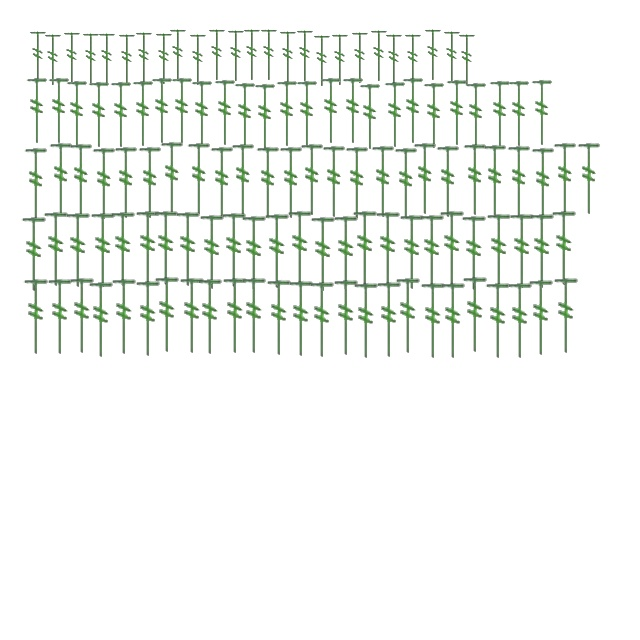fan: (20, 216, 48, 294), (64, 212, 92, 290), (134, 210, 162, 288), (152, 210, 180, 288), (198, 214, 226, 292), (220, 212, 248, 290), (286, 210, 314, 288), (398, 214, 426, 292), (418, 214, 446, 292), (438, 210, 466, 288), (550, 210, 578, 288), (22, 278, 50, 356), (46, 278, 74, 356), (68, 277, 96, 355), (110, 278, 138, 356), (134, 280, 162, 358), (178, 277, 206, 355), (196, 278, 224, 356), (240, 277, 268, 355), (308, 281, 336, 359), (332, 279, 360, 357), (352, 282, 380, 360), (394, 277, 422, 355), (484, 282, 512, 360), (506, 282, 534, 360), (552, 277, 580, 355), (42, 212, 70, 288), (174, 212, 202, 288), (240, 216, 268, 292), (332, 216, 360, 292), (374, 212, 402, 288), (460, 216, 488, 292), (508, 214, 536, 290), (528, 214, 556, 290), (90, 212, 116, 290), (310, 216, 336, 294), (352, 210, 378, 288), (88, 281, 114, 359), (154, 276, 180, 354), (222, 277, 248, 355), (266, 279, 292, 357), (288, 280, 314, 358), (376, 281, 402, 359), (420, 282, 446, 360), (440, 282, 466, 360), (462, 276, 488, 354), (528, 279, 554, 357), (110, 212, 136, 288), (264, 214, 290, 290), (486, 214, 512, 290), (48, 142, 74, 216), (68, 143, 94, 217), (186, 142, 212, 216), (230, 143, 256, 217), (278, 146, 304, 220), (344, 146, 370, 220), (370, 145, 396, 219), (412, 142, 438, 216), (462, 143, 488, 217), (482, 144, 508, 218), (506, 145, 532, 219), (530, 147, 556, 221), (552, 142, 578, 216), (576, 142, 602, 216), (24, 147, 48, 221), (92, 147, 116, 221), (114, 146, 138, 220), (138, 146, 162, 220), (160, 141, 184, 215), (210, 146, 234, 220), (256, 146, 280, 220), (300, 143, 324, 217), (322, 145, 346, 219), (394, 147, 418, 221), (436, 145, 460, 219), (150, 77, 174, 145), (170, 77, 194, 145), (190, 80, 214, 148), (358, 83, 382, 151), (422, 82, 446, 150), (464, 82, 488, 150), (488, 80, 512, 148), (530, 79, 554, 147), (26, 77, 48, 145), (48, 77, 70, 145), (66, 80, 88, 148), (88, 81, 110, 149), (110, 81, 132, 149), (132, 80, 154, 148), (214, 79, 236, 147), (234, 82, 256, 150), (254, 83, 276, 151), (276, 80, 298, 148), (296, 80, 318, 148), (320, 77, 342, 145), (342, 77, 364, 145), (384, 81, 406, 149), (402, 77, 424, 145), (446, 79, 468, 147), (508, 80, 530, 148), (28, 29, 48, 85), (43, 32, 63, 88), (62, 30, 82, 86), (81, 31, 101, 87), (97, 31, 117, 87), (117, 32, 137, 88), (134, 30, 154, 86), (154, 31, 174, 87), (168, 27, 188, 83), (188, 32, 208, 88), (207, 27, 227, 83), (226, 28, 246, 84), (242, 27, 262, 83), (259, 27, 279, 83), (278, 29, 298, 85), (295, 28, 315, 84), (312, 33, 332, 89), (330, 32, 350, 88), (350, 30, 370, 86), (369, 28, 389, 84), (384, 32, 404, 88), (403, 32, 423, 88), (423, 27, 443, 83), (442, 29, 462, 85), (457, 32, 477, 88)
